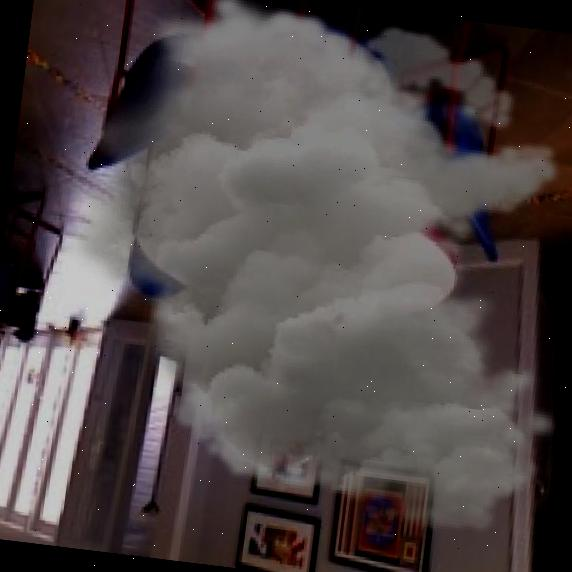smoke: (26, 0, 572, 546)
